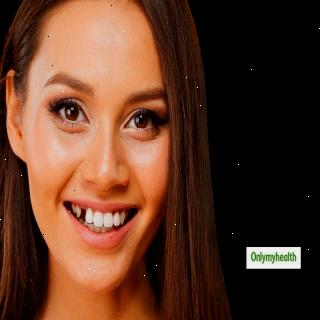maligned: (110, 210, 124, 230)
